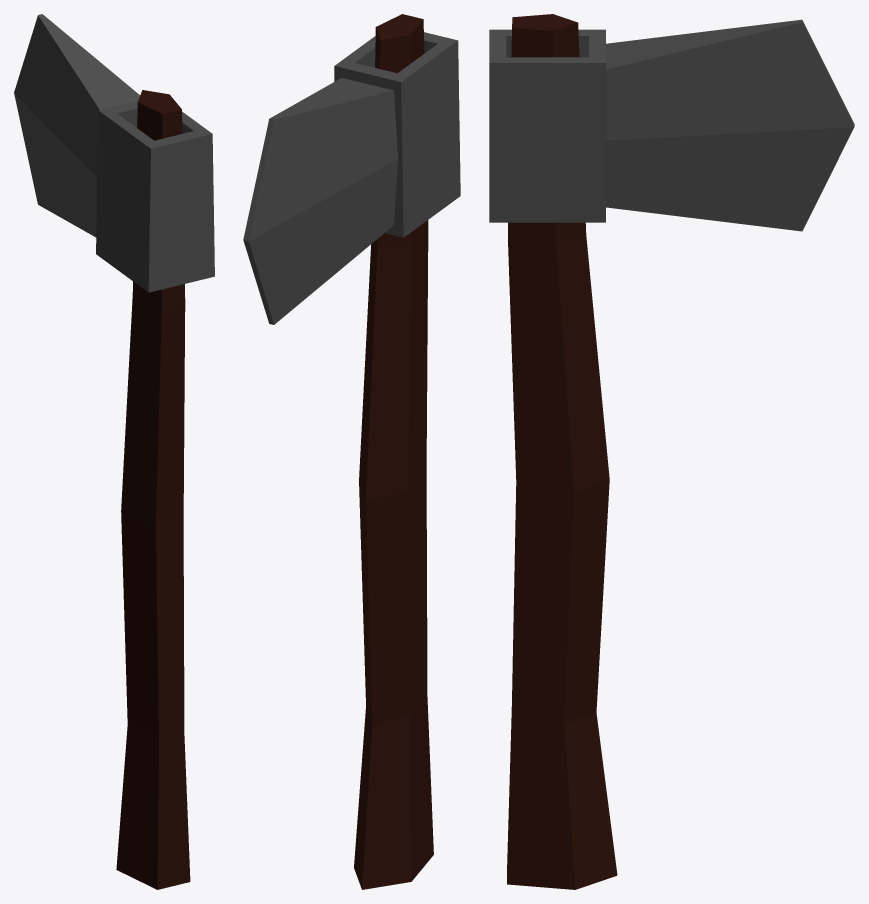
Rendered from Machado.fbx.
3 views of the same model, side by side, from view 1: azimuth 30°, elevation 25°; view 2: azimuth 150°, elevation 25°; view 3: azimuth 270°, elevation 25° (orthographic). The views are drawn at different scales.
Visible parts, largest first — view 1: cabo, metal; view 2: cabo, metal; view 3: metal, cabo.
Part boxes in pixels (<box>): cabo: <box>116,90,190,889</box>; metal: <box>14,14,214,292</box>; cabo: <box>354,14,433,889</box>; metal: <box>243,32,460,324</box>; metal: <box>489,19,854,231</box>; cabo: <box>507,14,617,889</box>.
Bounding box in the file's own units: 9.3 × 104 × 40.15.
